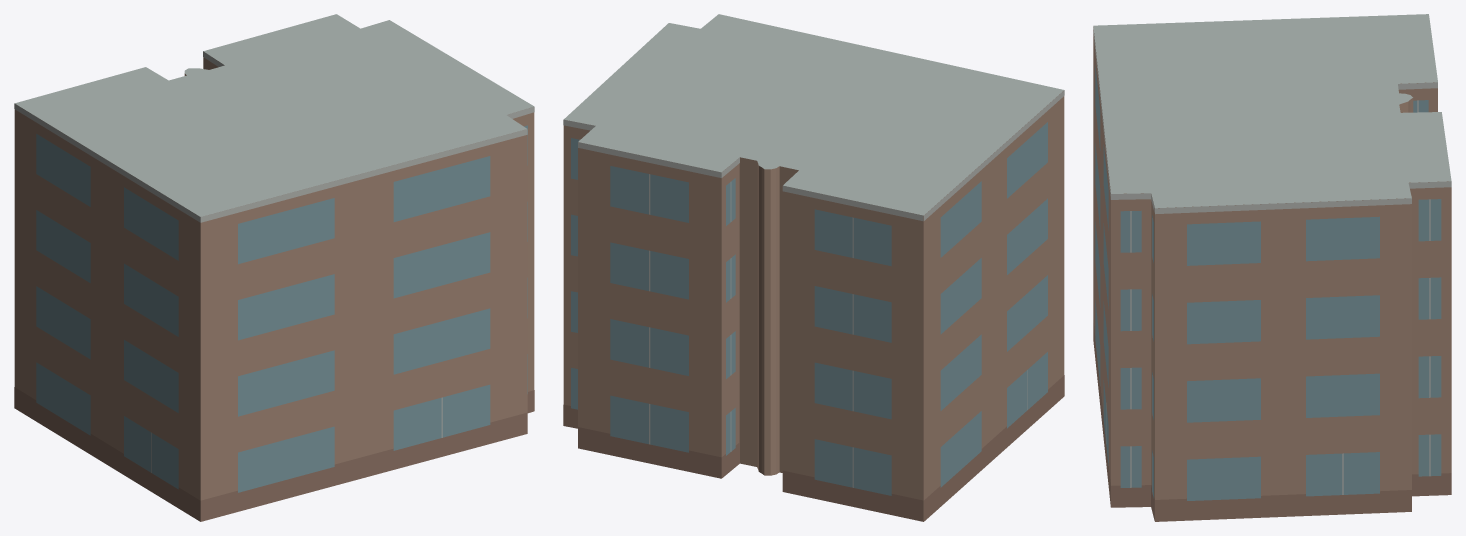
Rendered from survey-upis-32797686.glb.
3 renders of one model, left to right at view 1: azimuth 30°, elevation 25°; view 2: azimuth 150°, elevation 25°; view 3: azimuth 270°, elevation 25°, orthographic. The views are drawn at different scales.
Parts seen in each view (by area): view 1: survey-upis-32797686.tmp; view 2: survey-upis-32797686.tmp; view 3: survey-upis-32797686.tmp.
Boxes of the visible parts, <box> form: survey-upis-32797686.tmp: <box>14,14,534,521</box>; survey-upis-32797686.tmp: <box>563,14,1064,521</box>; survey-upis-32797686.tmp: <box>1093,14,1451,521</box>.
Size of the model in its own units: 17.14 by 12.9 by 13.36.
